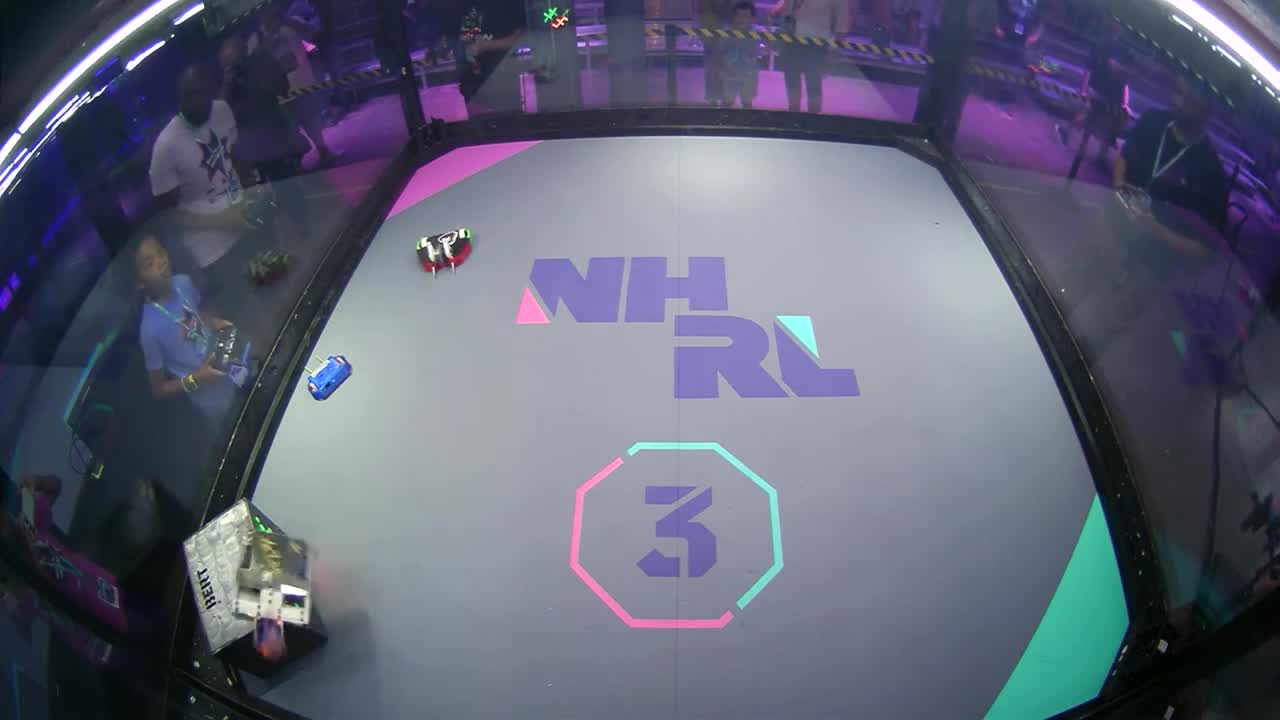combatbot: (231, 533, 314, 664), (413, 227, 476, 277)
housebot: (183, 498, 323, 672)
minibot: (303, 353, 355, 402)
